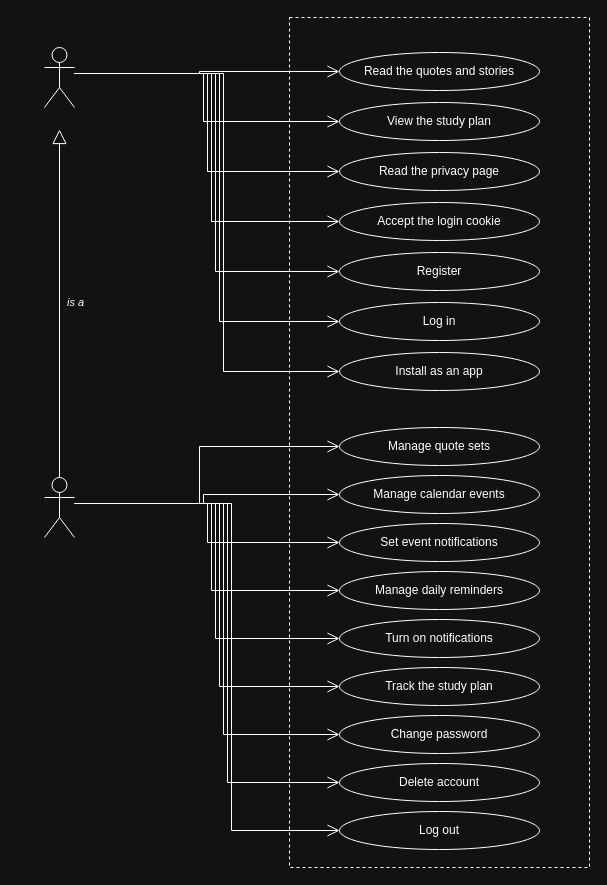
Image size: 607x885. Some labels were removed from this diagram. Here are the shapes that lost their labels. From the top down, the box of each, then its label:
(44, 46, 74, 108): Visitor
(288, 16, 590, 868): ubermenschs.com
(44, 476, 74, 538): User (logged in)
